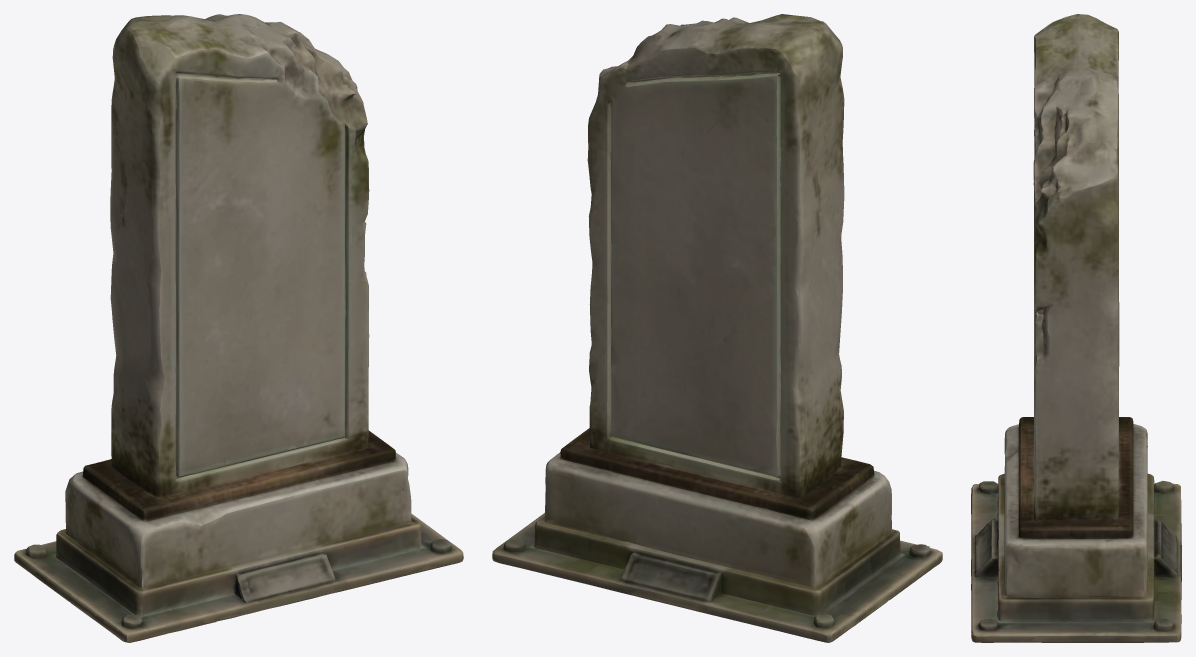
Rendered from PROP-007.glb.
The picture shows the model from 3 angles, left to right: view 1: azimuth 30°, elevation 25°; view 2: azimuth 150°, elevation 25°; view 3: azimuth 270°, elevation 25°; orthographic projection. The views are drawn at different scales.
Parts seen in each view (by area): view 1: world; view 2: world; view 3: world.
Boxes of the visible parts, box(x1,y1,x2,y2) form: world: box(14, 14, 463, 642); world: box(492, 14, 942, 642); world: box(971, 14, 1181, 642).
Bounding box in the file's own units: 0.4818 × 0.75 × 0.2824.
1 material, 1 textured.
